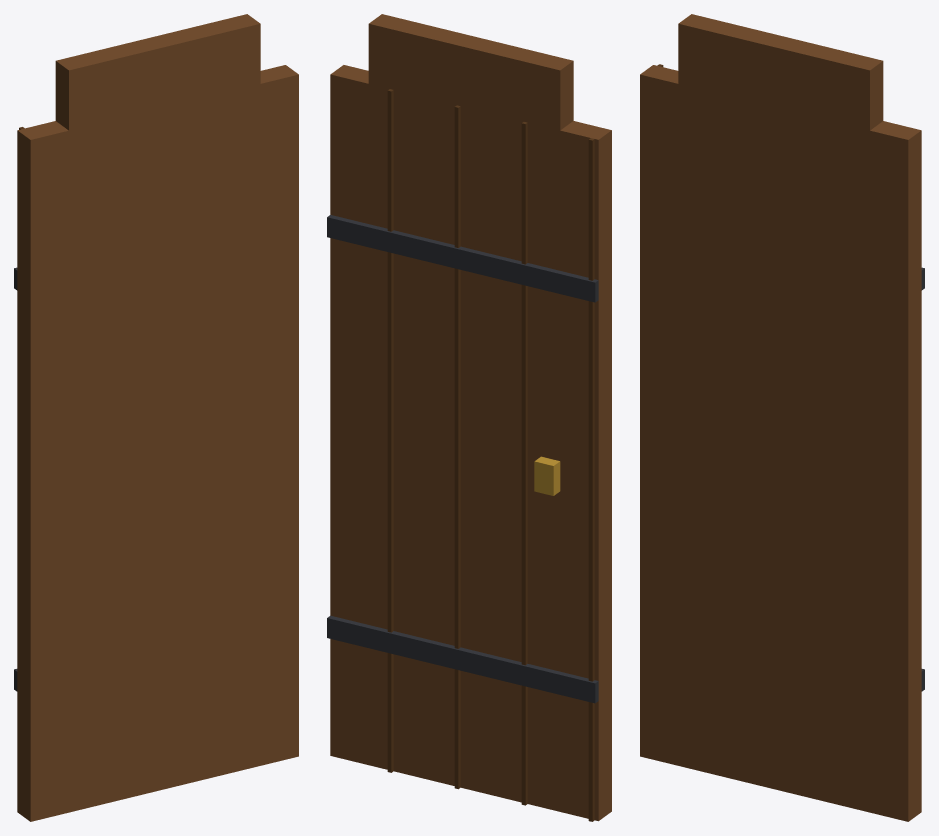
File: ncb-door-leaf.glb
3 views of the same model, side by side, from view 1: azimuth 30°, elevation 25°; view 2: azimuth 150°, elevation 25°; view 3: azimuth 330°, elevation 25° (orthographic).
Parts seen in each view (by area): view 1: box-prop; view 2: box-prop; view 3: box-prop.
Boxes of the visible parts, x1,y1,x2,y2 form: box-prop: [14, 14, 298, 821]; box-prop: [327, 14, 611, 821]; box-prop: [640, 14, 924, 821].
Bounding box in the file's own units: 1.4 × 3.7 × 0.18.
